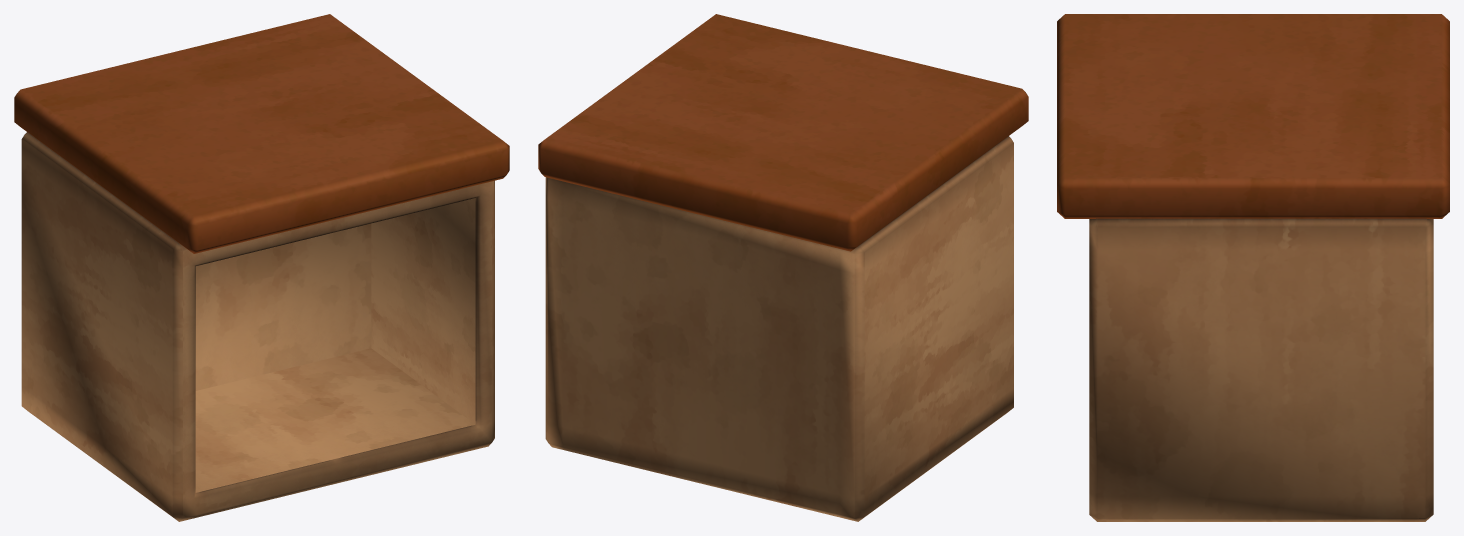
The model's file is CounterHole.fbx.
3 views of the same model, side by side, from view 1: azimuth 30°, elevation 25°; view 2: azimuth 150°, elevation 25°; view 3: azimuth 270°, elevation 25° (orthographic). The views are drawn at different scales.
Visible parts, largest first — view 1: Counter.001; view 2: Counter.001; view 3: Counter.001.
Boxes of the visible parts, x1,y1,x2,y2 form: Counter.001: (14, 14, 509, 521); Counter.001: (538, 14, 1028, 521); Counter.001: (1057, 14, 1449, 521).
Size of the model in its own units: 89.87 by 84.32 by 87.3.
